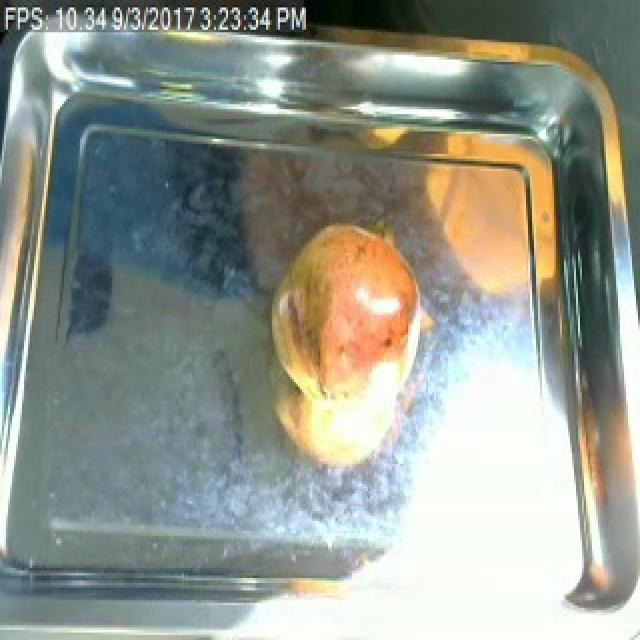fruit: (256, 206, 436, 436)
